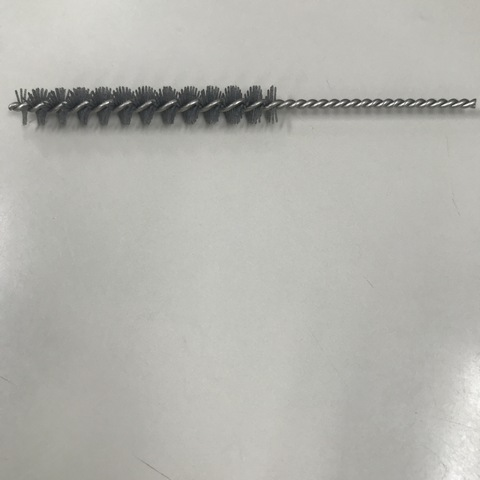Twist Brush-A: (9, 83, 478, 129)
